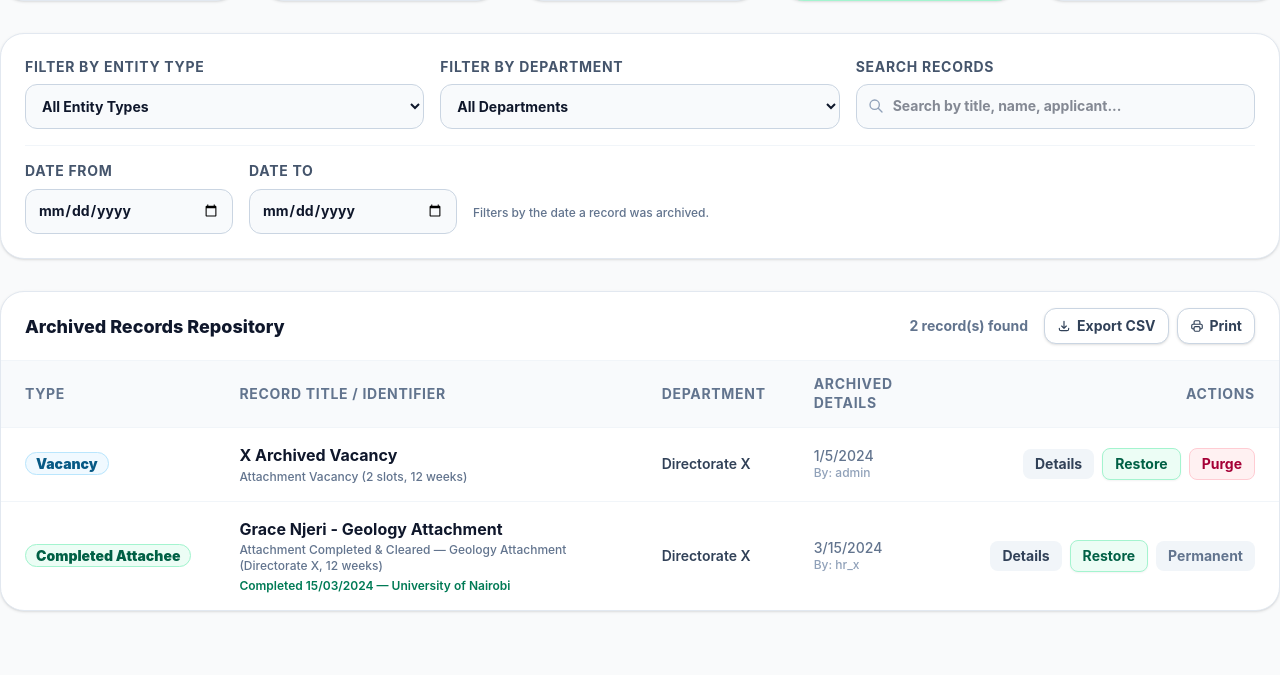
Test: System Archives — completed attachees › shows the full attachee record in the details modal
(page scrolled)
Check: the text "Grace Njeri - Geology Attachment" is shown, box left=239, top=518, right=503, bottom=538
Click the button "Details" in the row of "Permanent" at (1026, 556), box left=990, top=541, right=1062, bottom=571
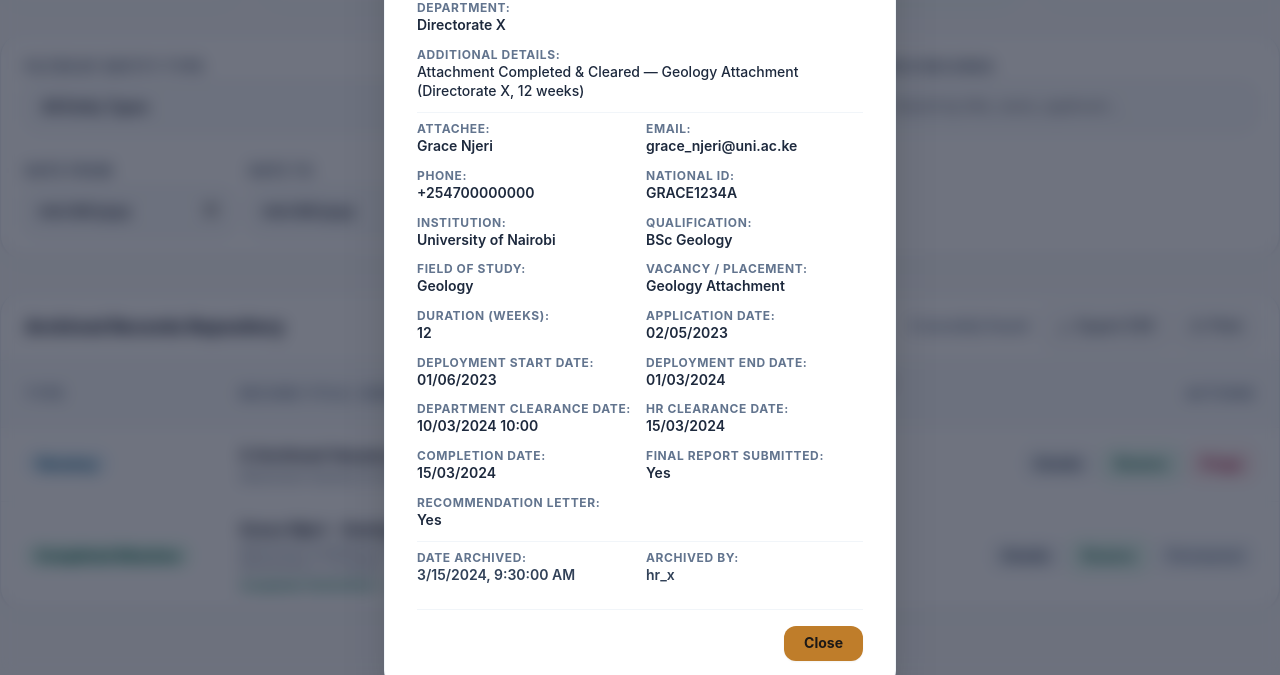
Check: the text "GRACE1234A" is shown, box left=646, top=184, right=737, bottom=201
Check: the text "University of Nairobi" is shown, box left=417, top=231, right=556, bottom=248
Check: the text "BSc Geology" is shown, box left=646, top=231, right=732, bottom=248
